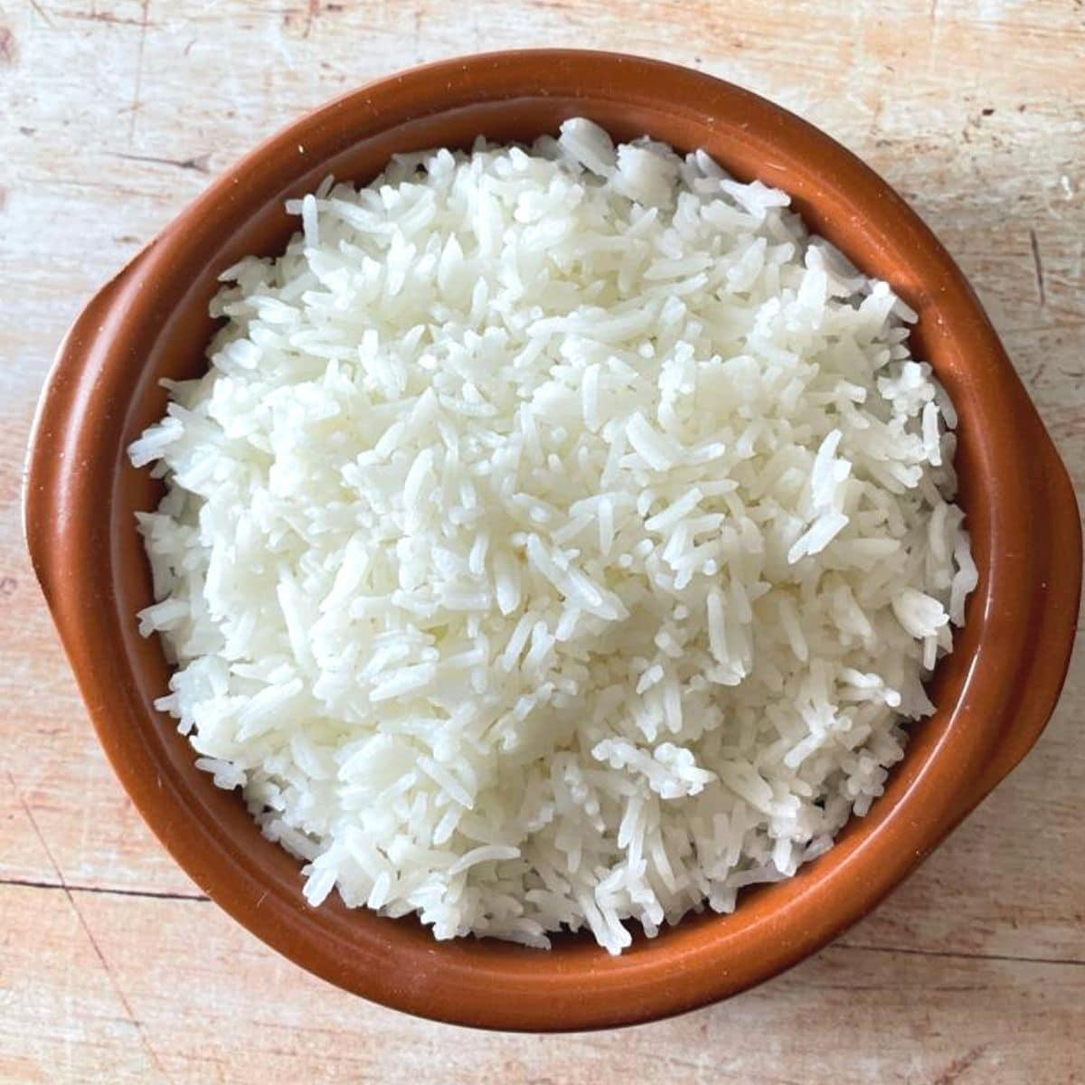rice: (160, 137, 969, 946)
